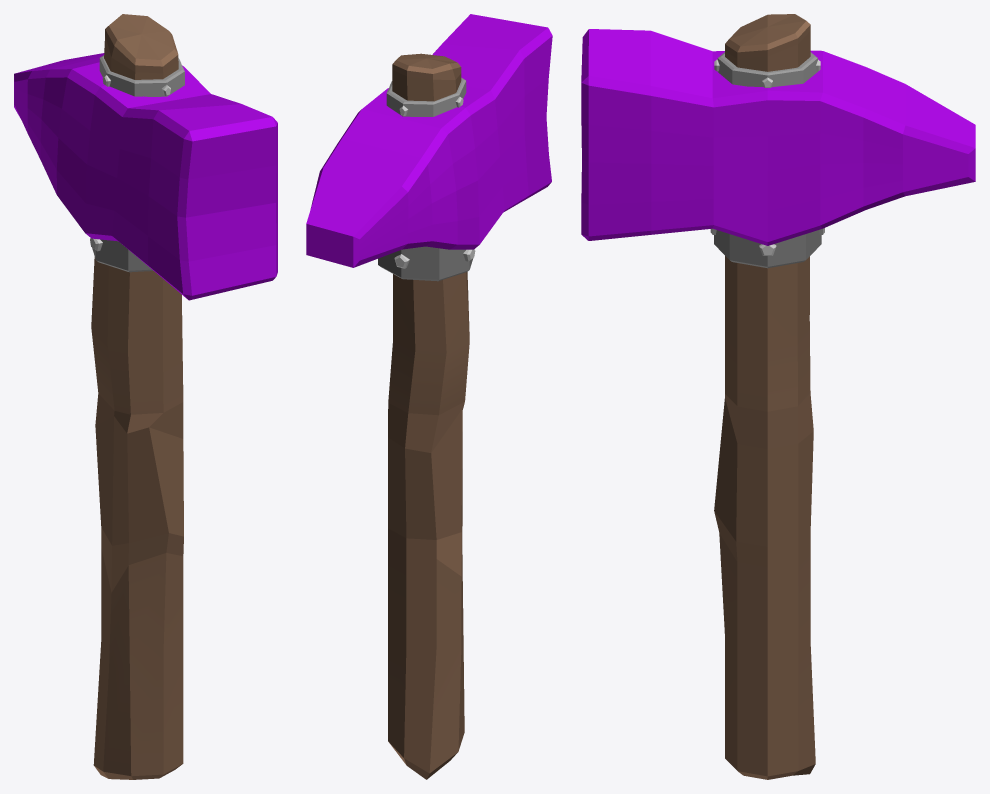
The model's file is Hammer2_Purple.fbx.
3 renders of one model, left to right at view 1: azimuth 30°, elevation 25°; view 2: azimuth 150°, elevation 25°; view 3: azimuth 270°, elevation 25°, orthographic. The views are drawn at different scales.
Parts seen in each view (by area): view 1: Hammer2_Purple; view 2: Hammer2_Purple; view 3: Hammer2_Purple.
Part boxes in pixels (<box>): Hammer2_Purple: <box>14,14,277,779</box>; Hammer2_Purple: <box>306,14,552,779</box>; Hammer2_Purple: <box>581,14,975,779</box>.
Bounding box in the file's own units: 10.39 × 64.49 × 30.19.
